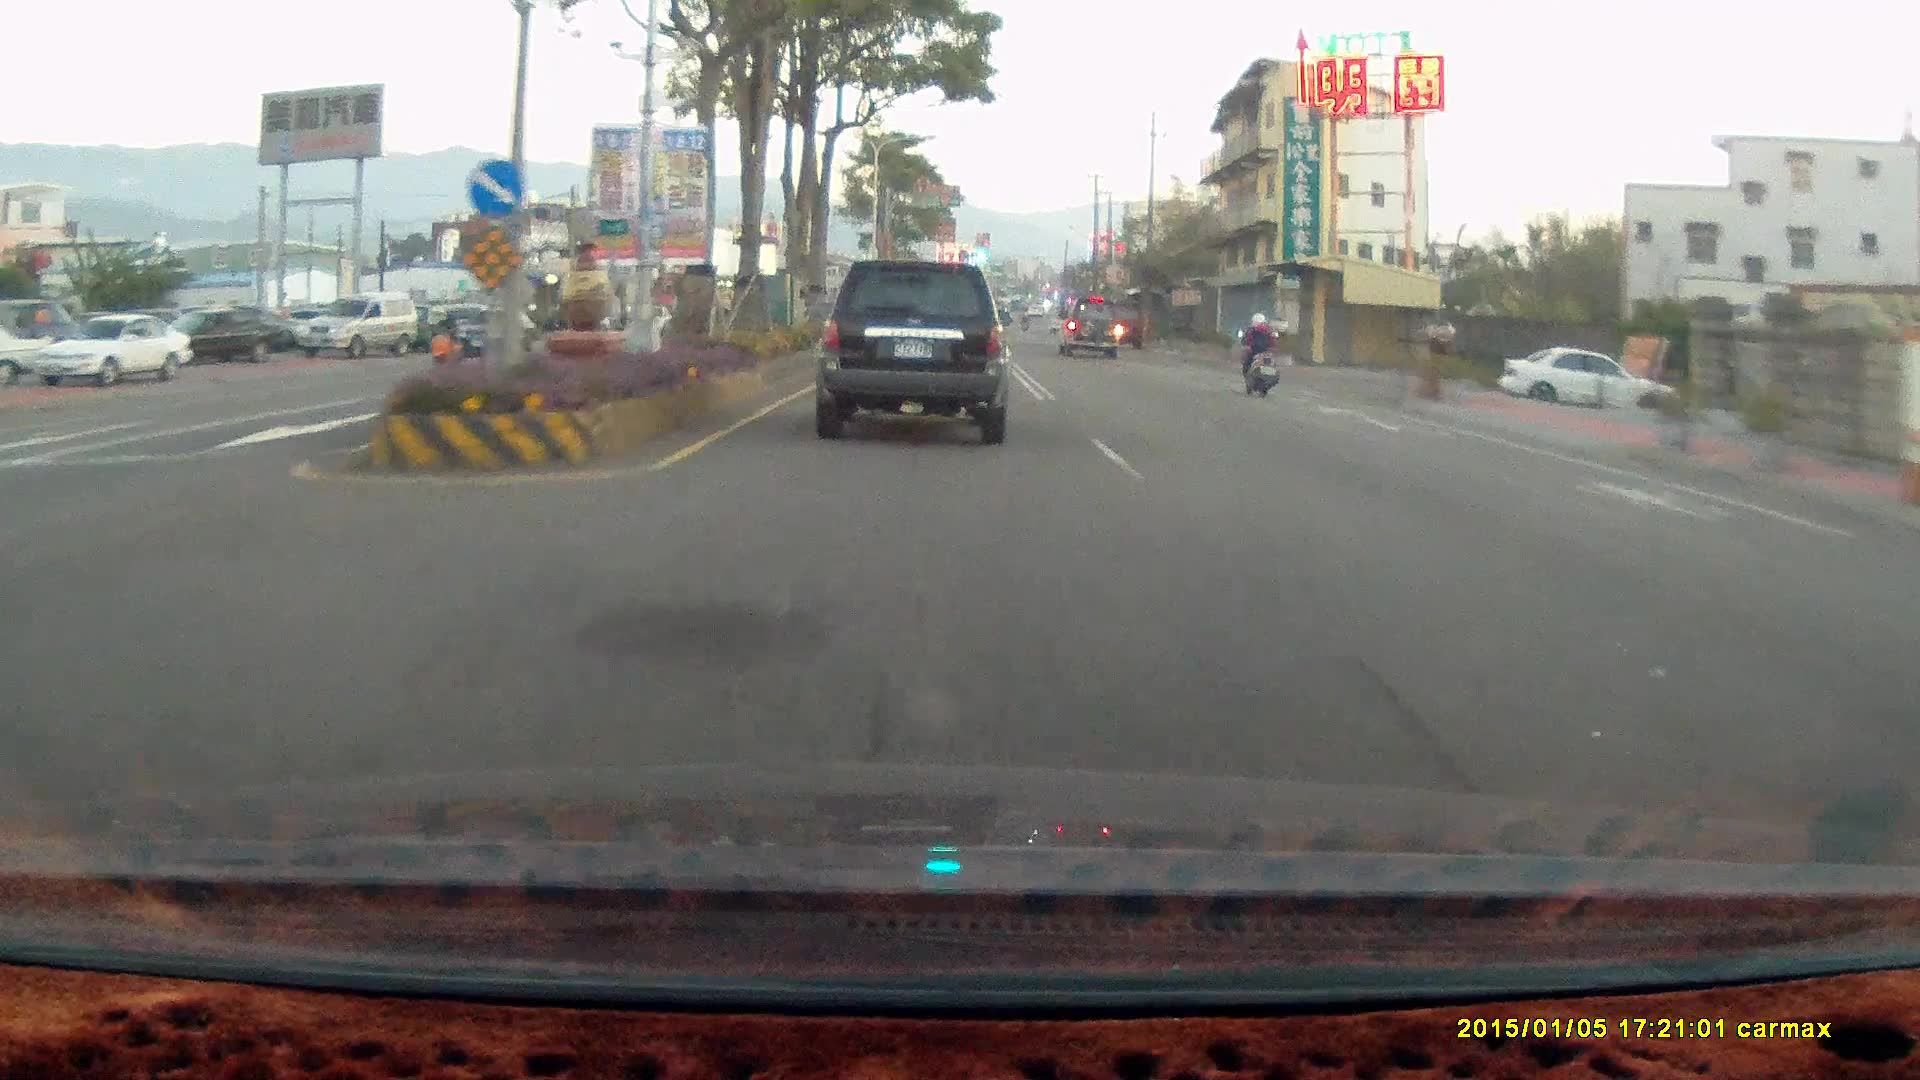rider: (1227, 303, 1288, 406), (1234, 306, 1278, 394), (424, 306, 465, 373)
vehicle: (811, 257, 1012, 446), (816, 254, 1012, 443), (1496, 341, 1679, 415), (1498, 350, 1685, 417), (28, 314, 193, 386), (31, 318, 197, 387), (150, 304, 301, 368), (147, 305, 295, 368), (301, 293, 421, 357), (458, 309, 547, 363), (1061, 296, 1123, 360), (457, 306, 539, 355), (1057, 295, 1119, 358), (1098, 299, 1142, 350)
